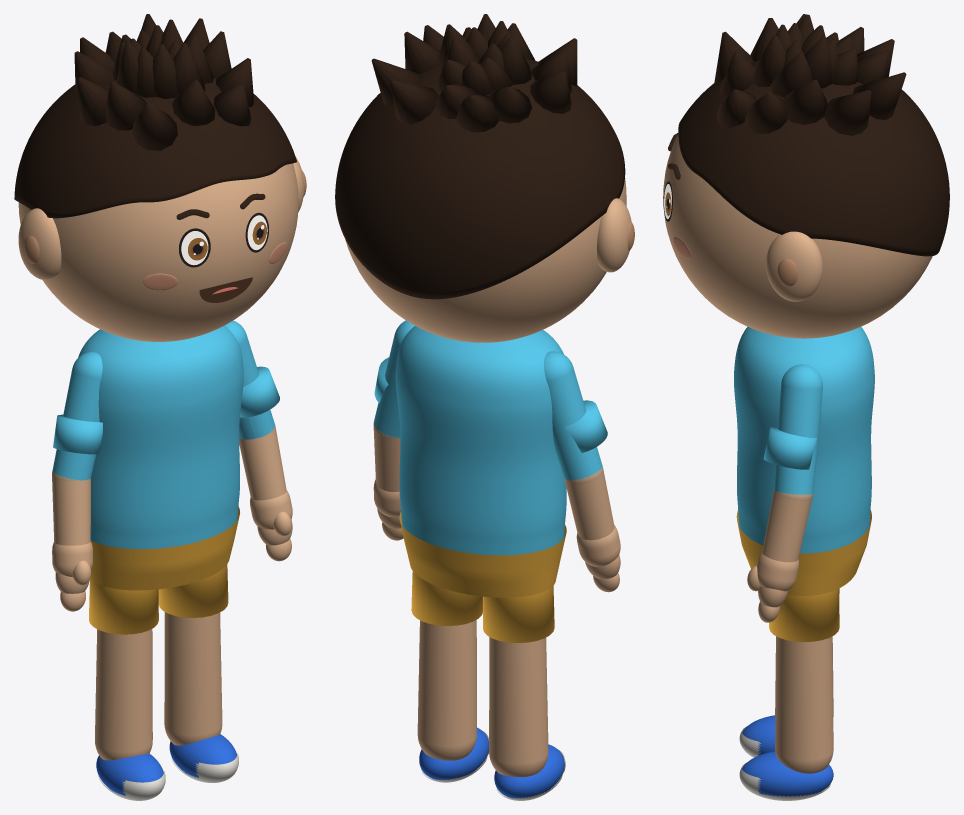
File: jongen_zwembad.glb
The picture shows the model from 3 angles, left to right: view 1: azimuth 30°, elevation 25°; view 2: azimuth 150°, elevation 25°; view 3: azimuth 270°, elevation 25°; orthographic projection. The views are drawn at different scales.
Parts seen in each view (by area): view 1: jongen_zwembad_romp, jongen_zwembad_hoofd, jongen_zwembad_haar, jongen_zwembad_been_L, jongen_zwembad_been_R, jongen_zwembad_short_heup, jongen_zwembad_bovenarm_R, jongen_zwembad_short_R, jongen_zwembad_onderarm_R, jongen_zwembad_onderarm_L, jongen_zwembad_short_L, jongen_zwembad_oor_R (+23 smaller); view 2: jongen_zwembad_haar, jongen_zwembad_romp, jongen_zwembad_hoofd, jongen_zwembad_been_R, jongen_zwembad_been_L, jongen_zwembad_short_heup, jongen_zwembad_bovenarm_R, jongen_zwembad_short_R, jongen_zwembad_short_L, jongen_zwembad_onderarm_R, jongen_zwembad_oor_R, jongen_zwembad_schoen_R (+19 smaller); view 3: jongen_zwembad_haar, jongen_zwembad_romp, jongen_zwembad_hoofd, jongen_zwembad_been_L, jongen_zwembad_bovenarm_L, jongen_zwembad_short_heup, jongen_zwembad_short_L, jongen_zwembad_oor_L, jongen_zwembad_onderarm_L, jongen_zwembad_schoen_L, jongen_zwembad_haar_piek18, jongen_zwembad_mouwzoom_L (+14 smaller).
Part boxes in pixels (x1=…): jongen_zwembad_romp: x1=78, y1=325, x2=243, y2=549; jongen_zwembad_hoofd: x1=18, y1=163, x2=298, y2=341; jongen_zwembad_haar: x1=14, y1=78, x2=296, y2=218; jongen_zwembad_been_L: x1=164, y1=612, x2=222, y2=745; jongen_zwembad_been_R: x1=95, y1=629, x2=152, y2=760; jongen_zwembad_short_heup: x1=90, y1=507, x2=239, y2=590; jongen_zwembad_bovenarm_R: x1=52, y1=351, x2=102, y2=480; jongen_zwembad_short_R: x1=89, y1=579, x2=158, y2=634; jongen_zwembad_onderarm_R: x1=52, y1=474, x2=90, y2=545; jongen_zwembad_onderarm_L: x1=239, y1=427, x2=286, y2=500; jongen_zwembad_short_L: x1=158, y1=564, x2=228, y2=617; jongen_zwembad_oor_R: x1=18, y1=208, x2=61, y2=279; jongen_zwembad_haar: x1=335, y1=59, x2=625, y2=299; jongen_zwembad_romp: x1=395, y1=326, x2=566, y2=555; jongen_zwembad_hoofd: x1=345, y1=178, x2=626, y2=342; jongen_zwembad_been_R: x1=489, y1=637, x2=548, y2=777; jongen_zwembad_been_L: x1=417, y1=620, x2=476, y2=760; jongen_zwembad_short_heup: x1=399, y1=512, x2=566, y2=597; jongen_zwembad_bovenarm_R: x1=544, y1=351, x2=602, y2=483; jongen_zwembad_short_R: x1=483, y1=586, x2=554, y2=642; jongen_zwembad_short_L: x1=411, y1=571, x2=482, y2=625; jongen_zwembad_onderarm_R: x1=564, y1=469, x2=614, y2=540; jongen_zwembad_oor_R: x1=597, y1=198, x2=631, y2=272; jongen_zwembad_schoen_R: x1=494, y1=744, x2=564, y2=798; jongen_zwembad_haar: x1=678, y1=61, x2=949, y2=256; jongen_zwembad_romp: x1=734, y1=326, x2=874, y2=553; jongen_zwembad_hoofd: x1=663, y1=134, x2=932, y2=338; jongen_zwembad_been_L: x1=775, y1=636, x2=833, y2=773; jongen_zwembad_bovenarm_L: x1=774, y1=364, x2=822, y2=500; jongen_zwembad_short_heup: x1=736, y1=510, x2=871, y2=595; jongen_zwembad_short_L: x1=769, y1=588, x2=839, y2=642; jongen_zwembad_oor_L: x1=766, y1=231, x2=822, y2=301; jongen_zwembad_onderarm_L: x1=762, y1=490, x2=812, y2=562; jongen_zwembad_schoen_L: x1=742, y1=751, x2=833, y2=796; jongen_zwembad_haar_piek18: x1=824, y1=90, x2=871, y2=135; jongen_zwembad_mouwzoom_L: x1=763, y1=426, x2=816, y2=469.
Bounding box in the file's own units: 0.6473 × 1.66 × 0.5724.
